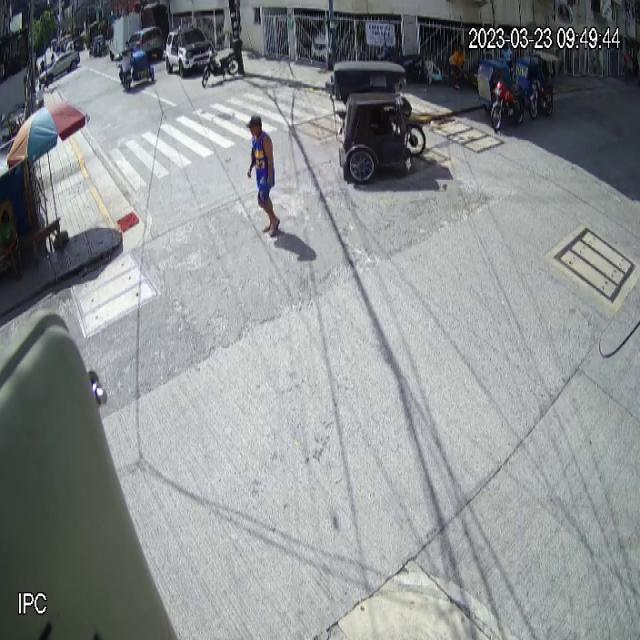Tricycle: (326, 60, 427, 186)
